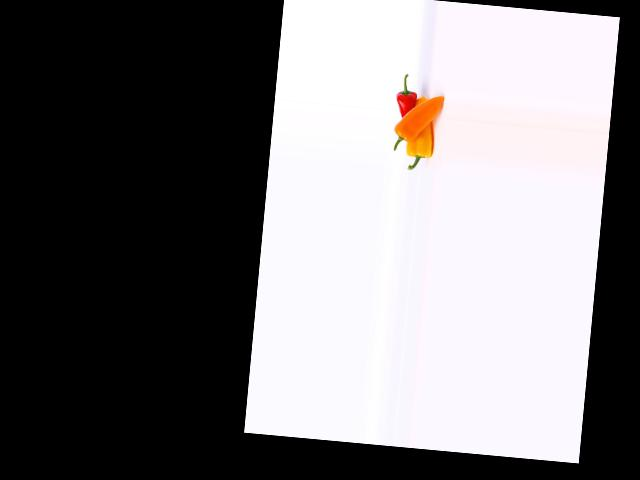bell_pepper: (401, 113, 441, 174)
